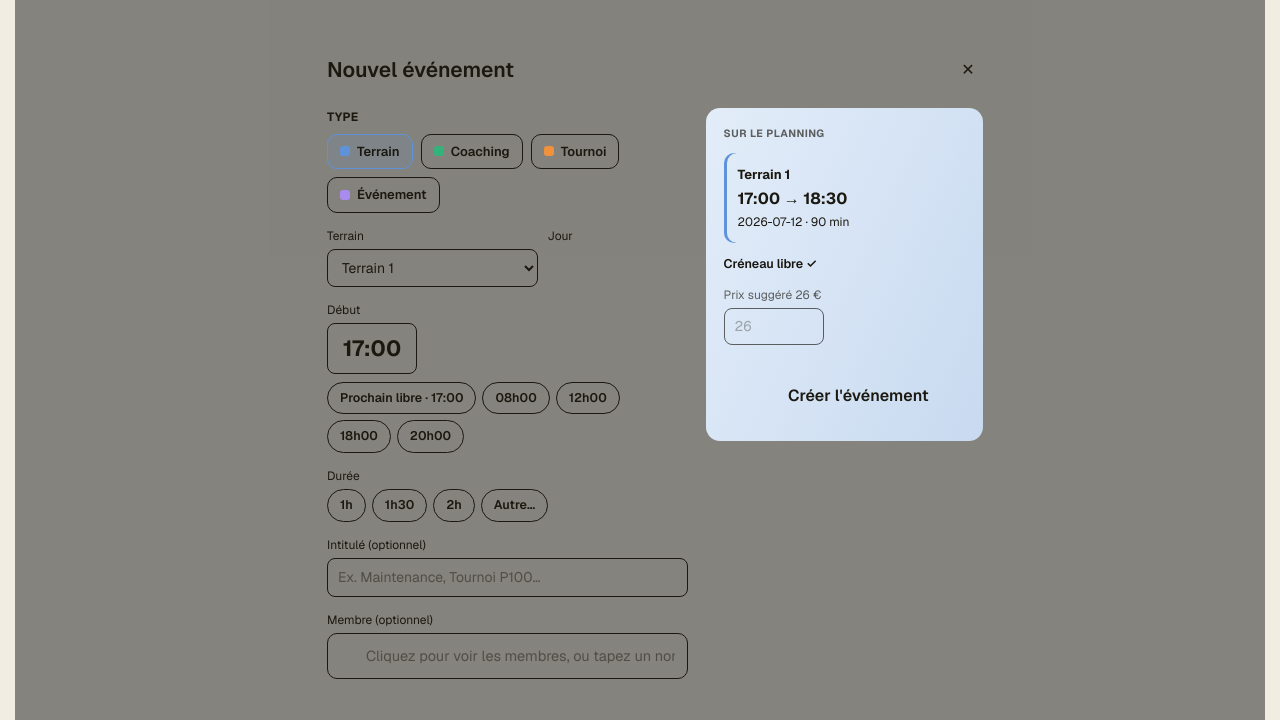
CreateEventModal — saisie clavier de l'heure › taper "1830" et valider pose le début à 18:30 et met à jour le récap
Replace the text in the field showing "17:00" with "1830" at (372, 348), box [327,322,417,374]
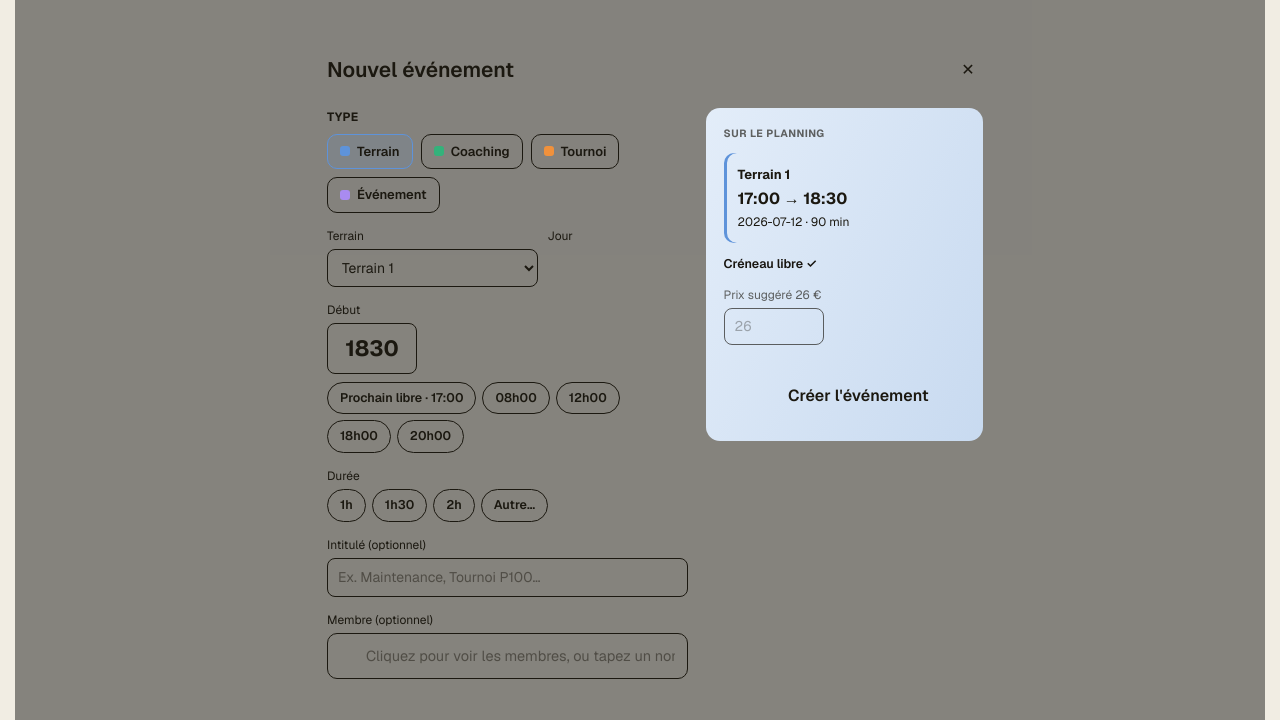
Leave the field showing "17:00", box [327,322,417,374]
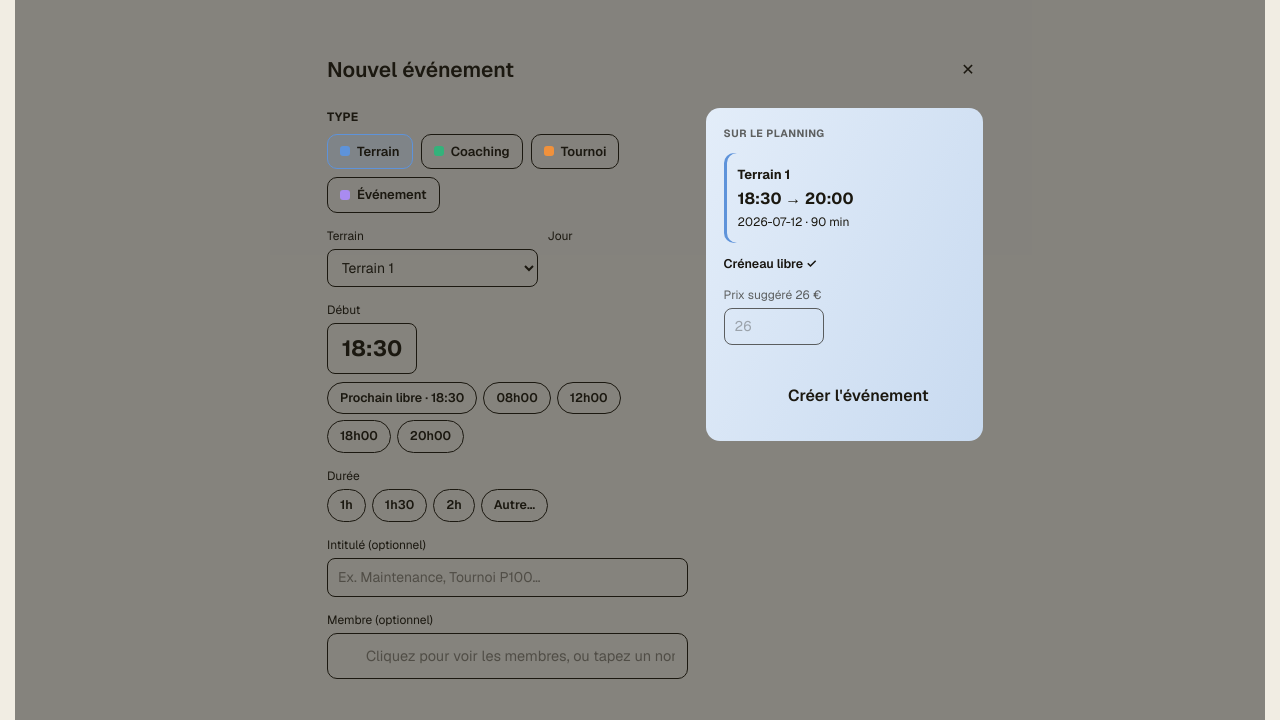
Result: the field showing "18:30" is shown at [327,322,417,374]
Result: the text "18:30 → 20:00" is shown at [738,188,854,209]
